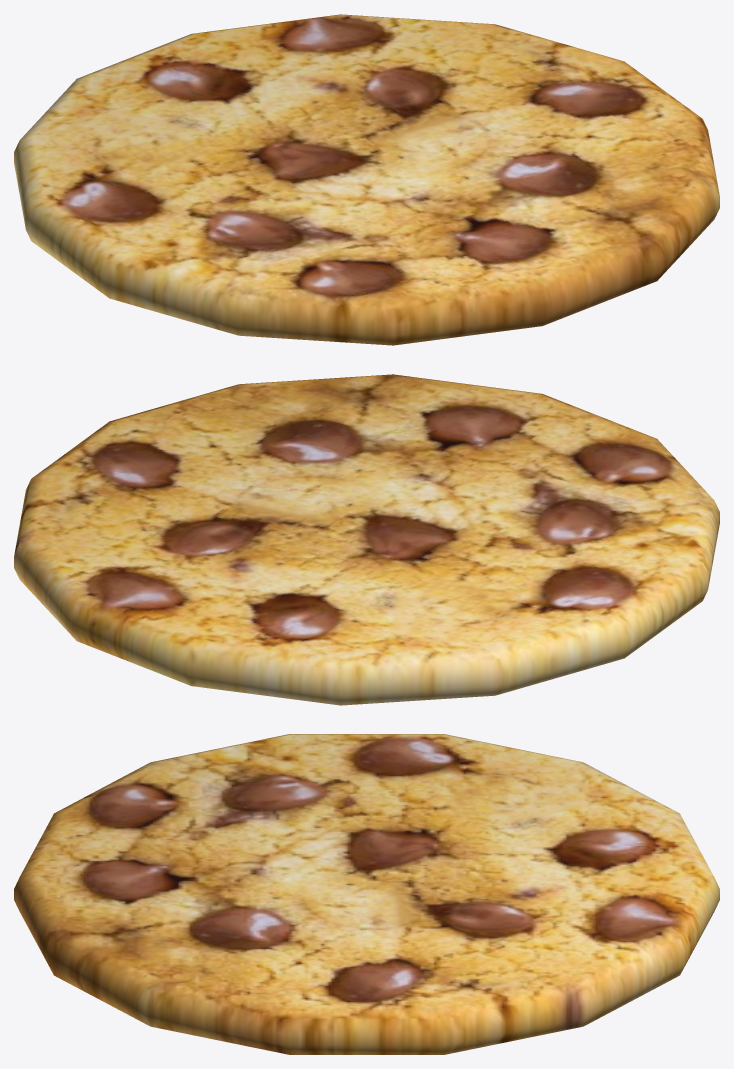
Rendered from candy_waf_3.fbx.
3 views of the same model, one above another, from view 1: azimuth 30°, elevation 25°; view 2: azimuth 150°, elevation 25°; view 3: azimuth 270°, elevation 25° (orthographic).
Parts seen in each view (by area): view 1: c_w_3; view 2: c_w_3; view 3: c_w_3.
Boxes of the visible parts, x1,y1,x2,y2 form: c_w_3: (14, 14, 719, 345); c_w_3: (14, 374, 719, 705); c_w_3: (14, 734, 719, 1054).
Bounding box in the file's own units: 173 × 12.36 × 177.
